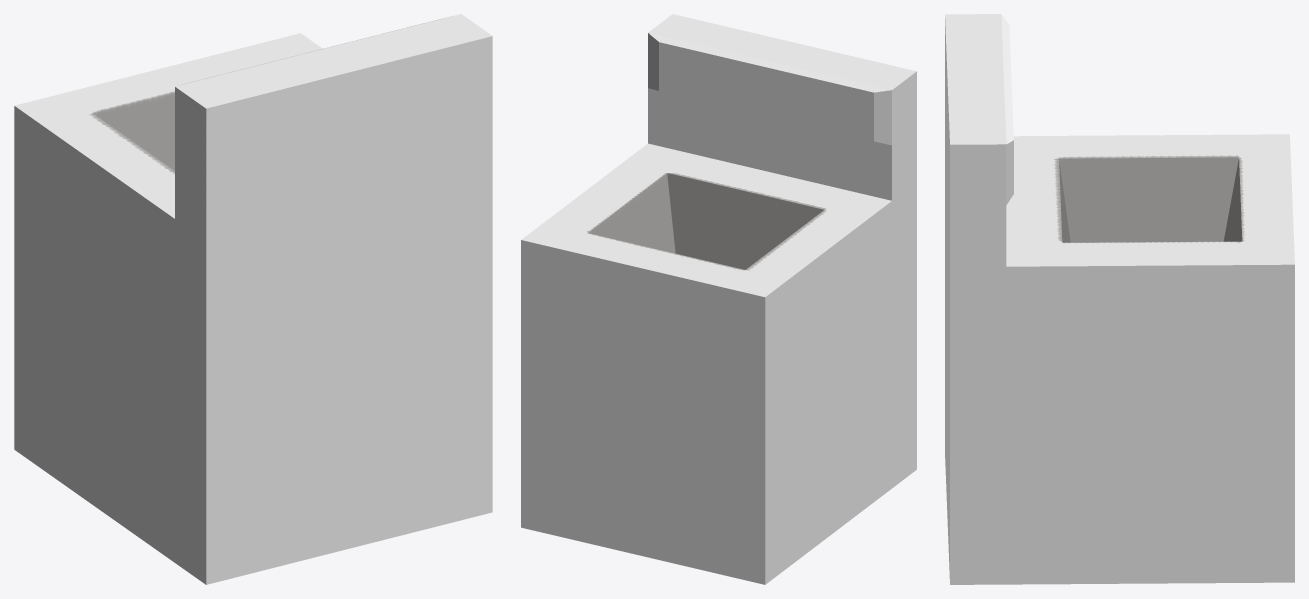
The model's file is Lavadora.fbx.
The picture shows the model from 3 angles, left to right: view 1: azimuth 30°, elevation 25°; view 2: azimuth 150°, elevation 25°; view 3: azimuth 270°, elevation 25°; orthographic projection. The views are drawn at different scales.
Visible parts, largest first — view 1: Lavadora(mapeada)(texturizada); view 2: Lavadora(mapeada)(texturizada); view 3: Lavadora(mapeada)(texturizada).
Boxes of the visible parts, box(x1,y1,x2,y2) form: Lavadora(mapeada)(texturizada): box(14, 14, 492, 584); Lavadora(mapeada)(texturizada): box(521, 14, 916, 584); Lavadora(mapeada)(texturizada): box(945, 14, 1294, 584).
Bounding box in the file's own units: 272 × 420 × 303.
